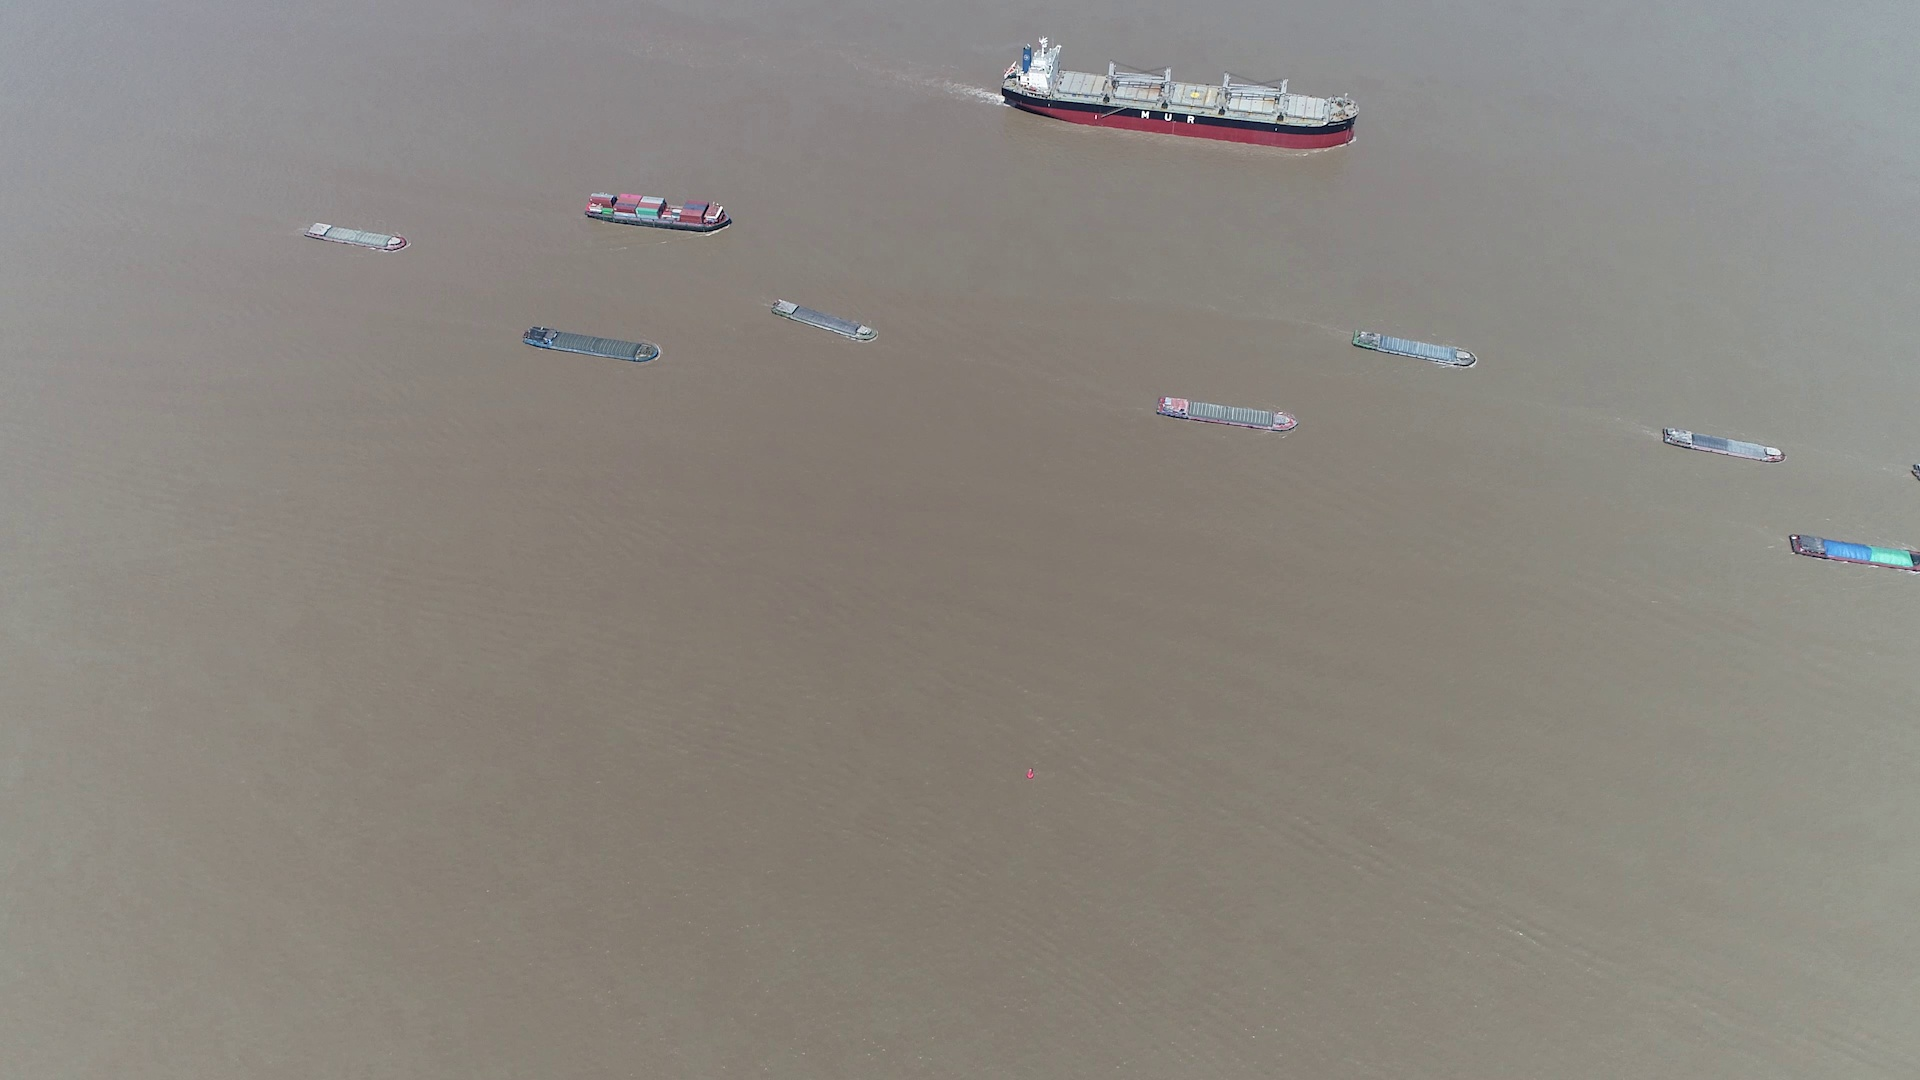ship: (1000, 42, 1360, 146), (585, 191, 733, 232), (520, 326, 663, 365), (1788, 531, 1919, 574), (1156, 396, 1298, 433), (1353, 327, 1480, 368), (770, 299, 878, 344), (1660, 425, 1785, 462), (303, 220, 407, 251)
